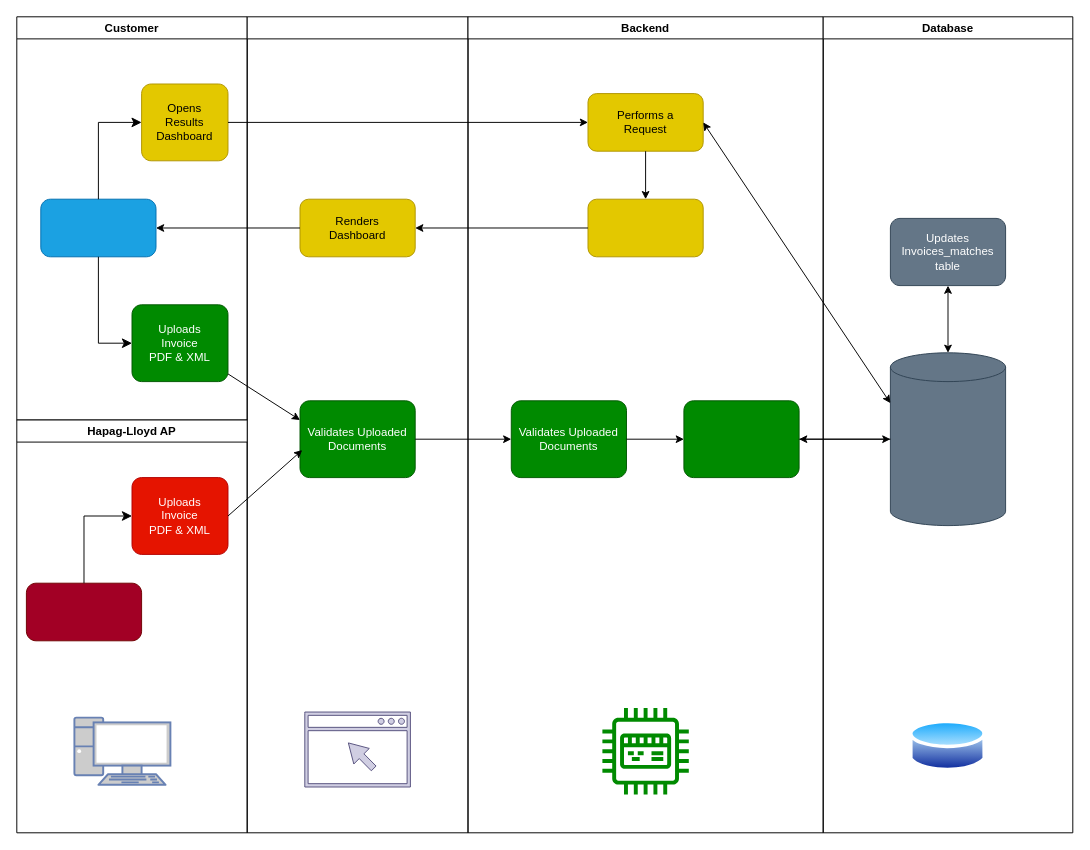
Image size: 1090x850. Some labels were removed from this diagram. The box of each missing label's shape, as (x1, y1, x2, y2) in pixels:
Creates Dashboard: (587, 198, 703, 257)
Customer Logs In: (40, 198, 156, 257)
Data is Stored: (889, 352, 1006, 526)
Encrypts Data: (683, 400, 799, 478)
Frontend: (246, 16, 468, 833)
HL Employee Logs In: (25, 582, 142, 641)
